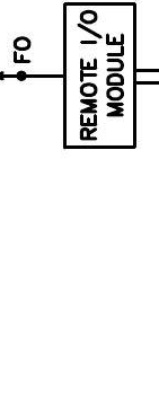remote_io_module: (63, 2, 137, 150)
